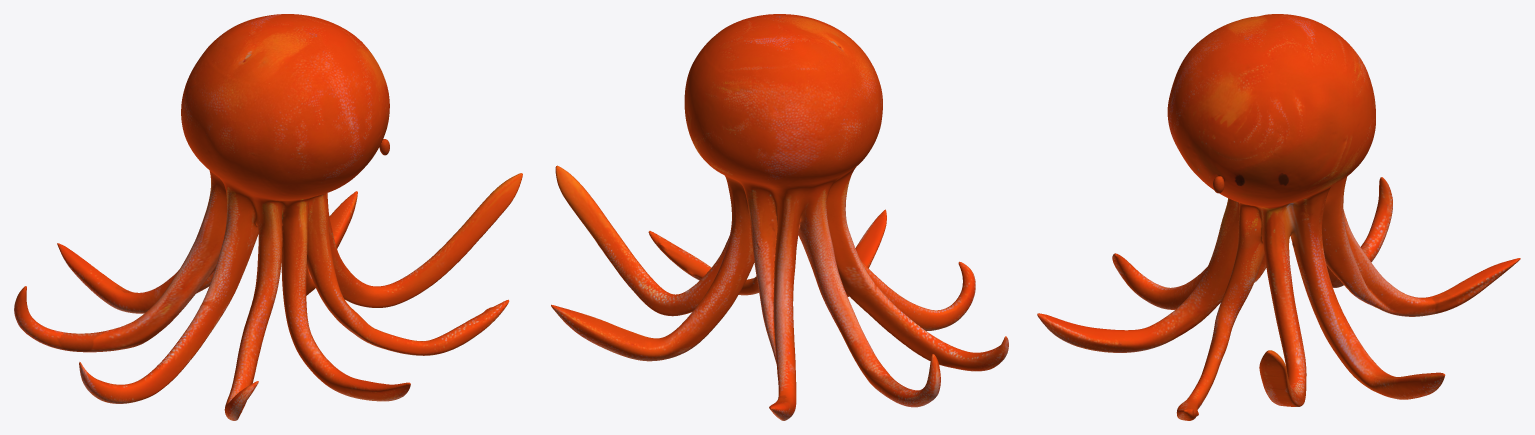
The model's file is octopus-new.glb.
The picture shows the model from 3 angles, left to right: view 1: azimuth 30°, elevation 25°; view 2: azimuth 150°, elevation 25°; view 3: azimuth 270°, elevation 25°; orthographic projection. The views are drawn at different scales.
Visible parts, largest first — view 1: tripo_node_3a8ce482-a859-44ed-9c8e-5ca77bcde11c; view 2: tripo_node_3a8ce482-a859-44ed-9c8e-5ca77bcde11c; view 3: tripo_node_3a8ce482-a859-44ed-9c8e-5ca77bcde11c.
Part boxes in pixels (x1,y1,x2,y2): tripo_node_3a8ce482-a859-44ed-9c8e-5ca77bcde11c: (14, 14, 522, 420); tripo_node_3a8ce482-a859-44ed-9c8e-5ca77bcde11c: (551, 14, 1008, 420); tripo_node_3a8ce482-a859-44ed-9c8e-5ca77bcde11c: (1037, 14, 1520, 420).
Bounding box in the file's own units: 1 × 0.685 × 0.8998.
Materials: 1 (1 with a texture image).
